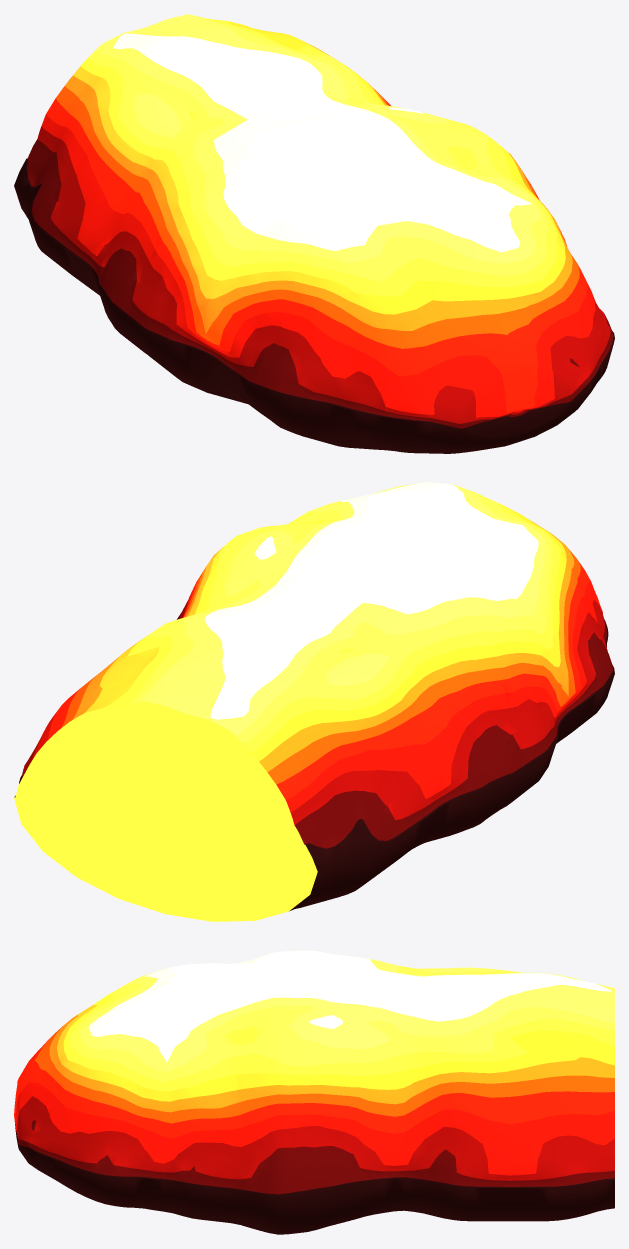
Rendered from comet_head_243.glb.
3 renders of one model, top to bottom at view 1: azimuth 30°, elevation 25°; view 2: azimuth 150°, elevation 25°; view 3: azimuth 270°, elevation 25°, orthographic. The views are drawn at different scales.
Parts seen in each view (by area): view 1: comet_head_243; view 2: comet_head_243; view 3: comet_head_243.
Part boxes in pixels (x1,y1,x2,y2): comet_head_243: (14, 14, 614, 453); comet_head_243: (14, 482, 614, 921); comet_head_243: (14, 950, 614, 1234).
Bounding box in the file's own units: 17.05 × 10.88 × 26.22.
